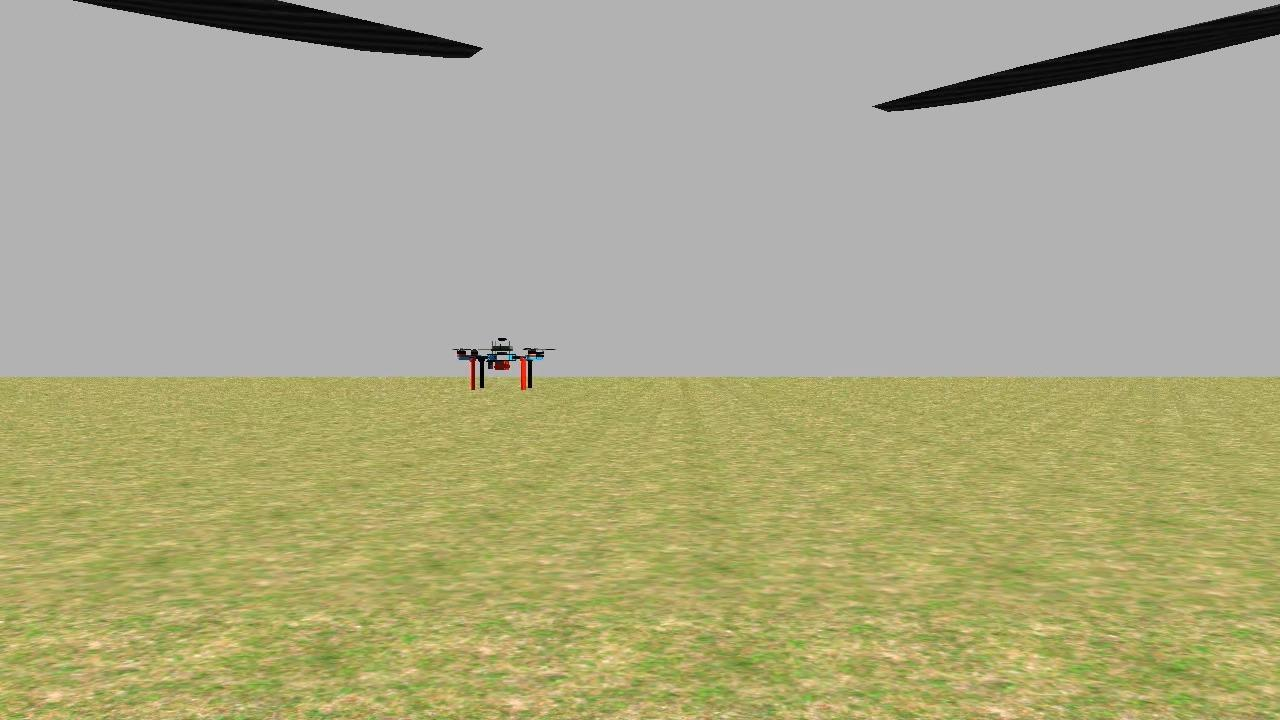UAV: (433, 331, 554, 392)
